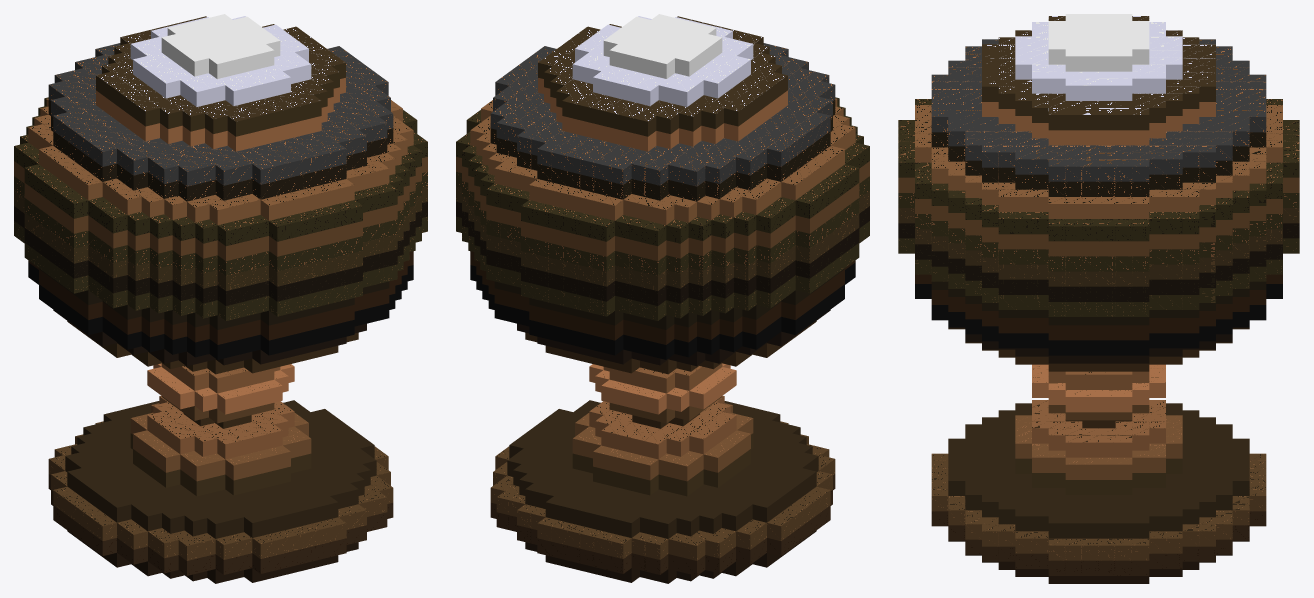
Rendered from SMBT_stand.obj.
The picture shows the model from 3 angles, left to right: view 1: azimuth 30°, elevation 25°; view 2: azimuth 150°, elevation 25°; view 3: azimuth 270°, elevation 25°; orthographic projection.
Visible parts, largest first — view 1: TorchFlame; view 2: TorchFlame; view 3: TorchFlame.
Part boxes in pixels (x1,y1,x2,y2): TorchFlame: (14,14,427,583); TorchFlame: (456,14,869,583); TorchFlame: (898,14,1299,583).
Size of the model in its own units: 0.75 by 1 by 0.75.
Materials: 1 (1 with a texture image).
